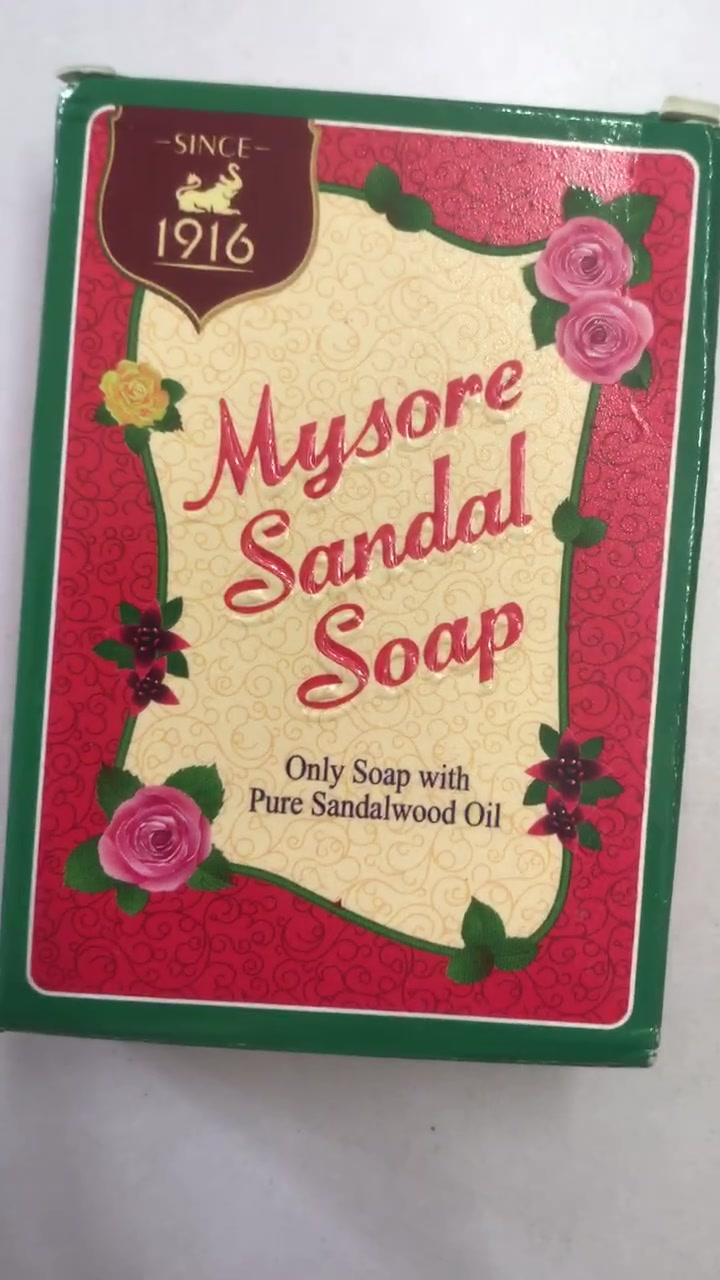mysore sandal soap: (8, 64, 719, 1074)
